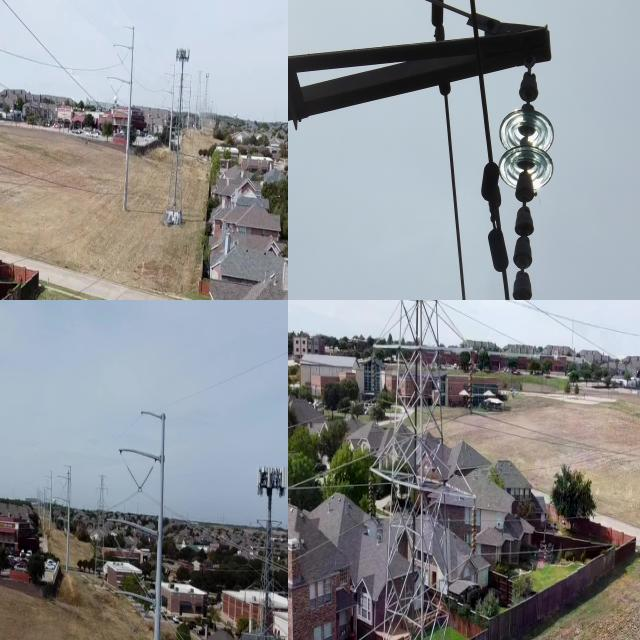杆塔: (379, 300, 456, 640), (234, 458, 288, 640), (160, 38, 193, 228), (94, 472, 110, 589)
正常绝缘子: (497, 66, 554, 300), (137, 465, 155, 492), (126, 465, 143, 492), (471, 500, 478, 556), (467, 356, 474, 412), (371, 354, 378, 401), (368, 474, 374, 519)
绝缘子破损: (514, 181, 538, 220), (512, 252, 533, 289), (512, 227, 535, 257), (518, 82, 539, 109), (510, 283, 533, 300)
